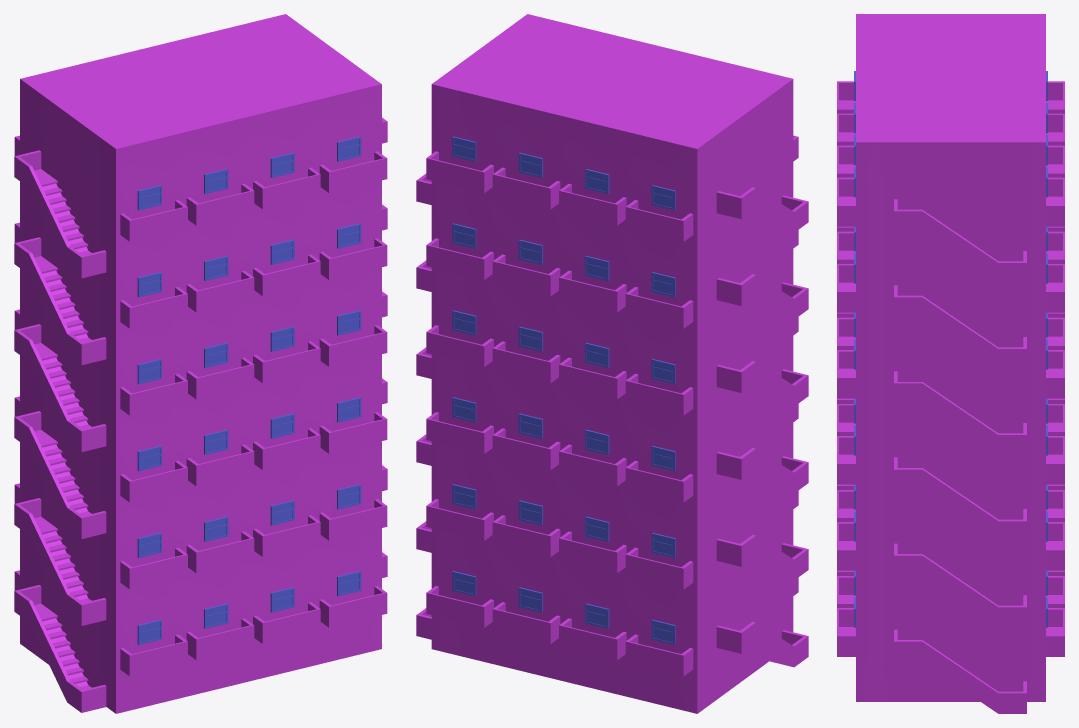
Rendered from Prop_Houses1_M.fbx.
3 renders of one model, left to right at view 1: azimuth 30°, elevation 25°; view 2: azimuth 150°, elevation 25°; view 3: azimuth 270°, elevation 25°, orthographic.
Visible parts, largest first — view 1: House1_M; view 2: House1_M; view 3: House1_M.
Part boxes in pixels (x1,y1,x2,y2): House1_M: [14, 14, 387, 713]; House1_M: [416, 14, 808, 713]; House1_M: [837, 14, 1064, 713].
Bounding box in the file's own units: 1900 × 3250 × 1200.
